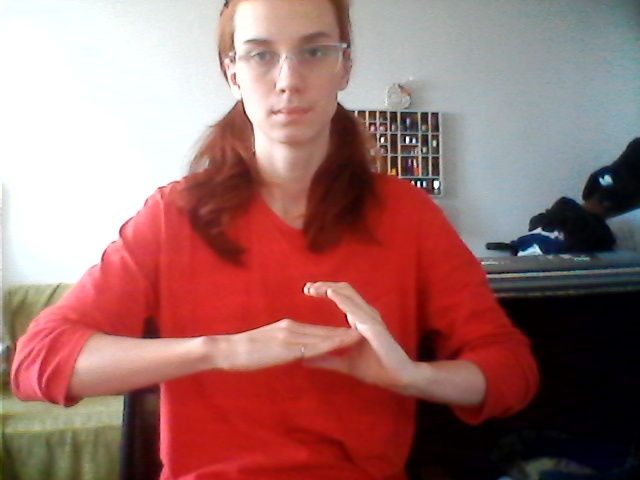e: (243, 276, 407, 400)
